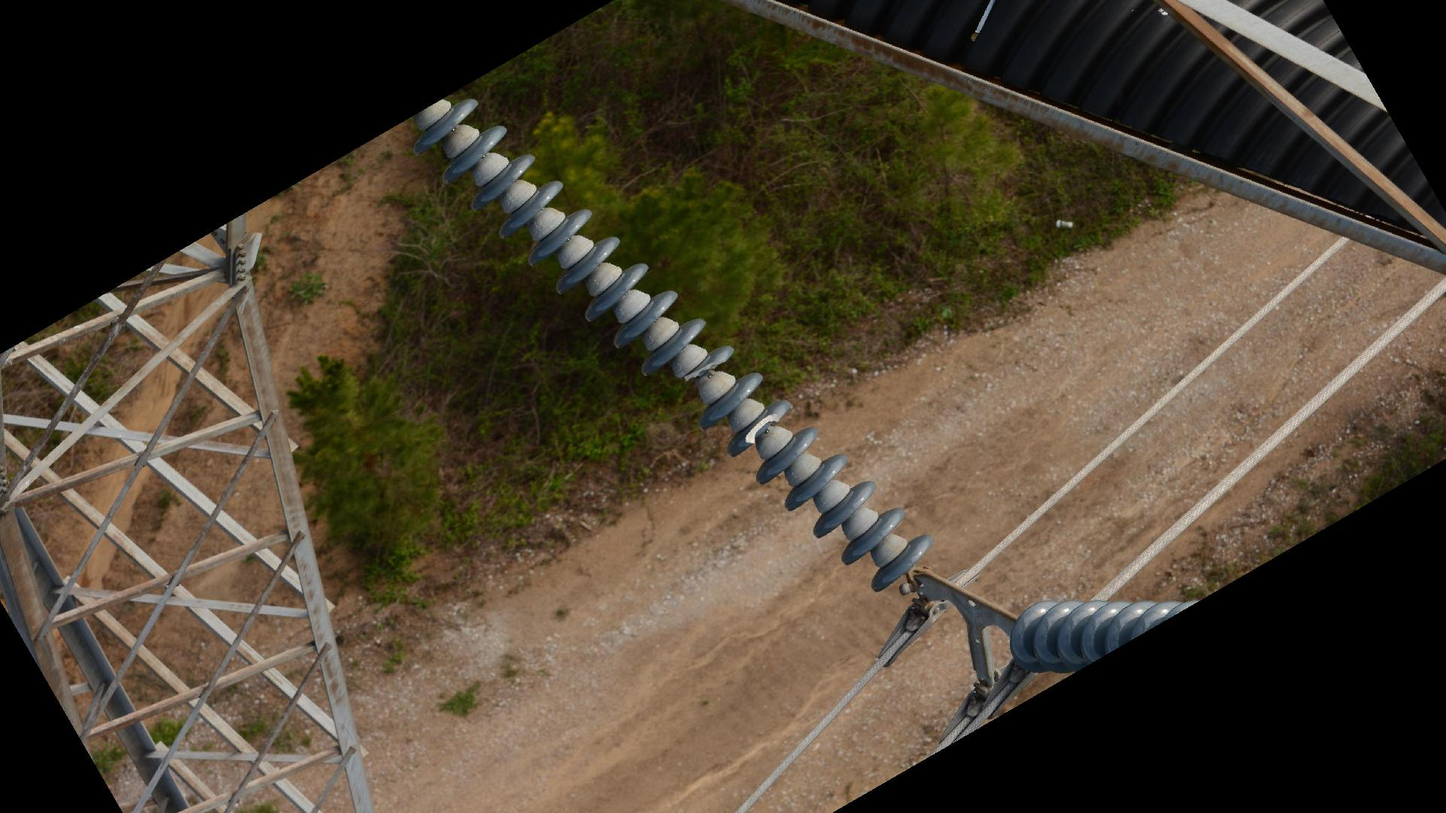insulator: (411, 93, 938, 594), (1005, 594, 1208, 671)
insulator_breakage: (740, 410, 784, 449), (682, 358, 728, 384)
